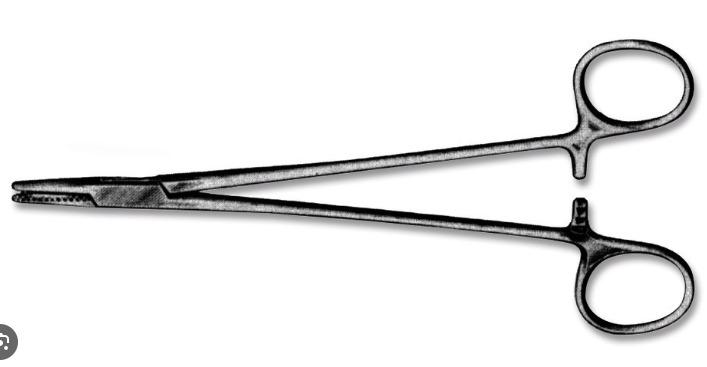Needle Holder: (8, 36, 696, 346)
